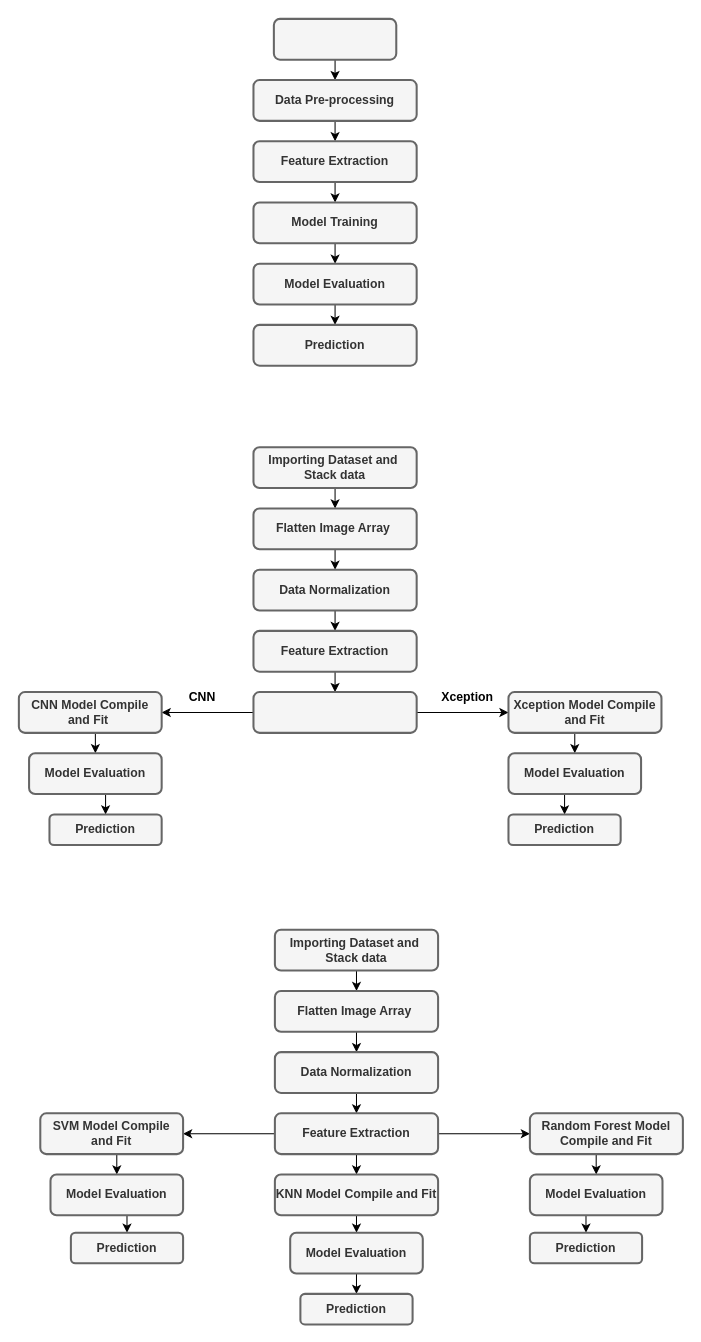
The diagram is 701 pixels wide and 1342 high, and some of its shapes have lost their labels. The centre of each missing label's shape, as x and y in pixels:
Data Collection: (x=334, y=38)
Image Augmentation: (x=334, y=712)
